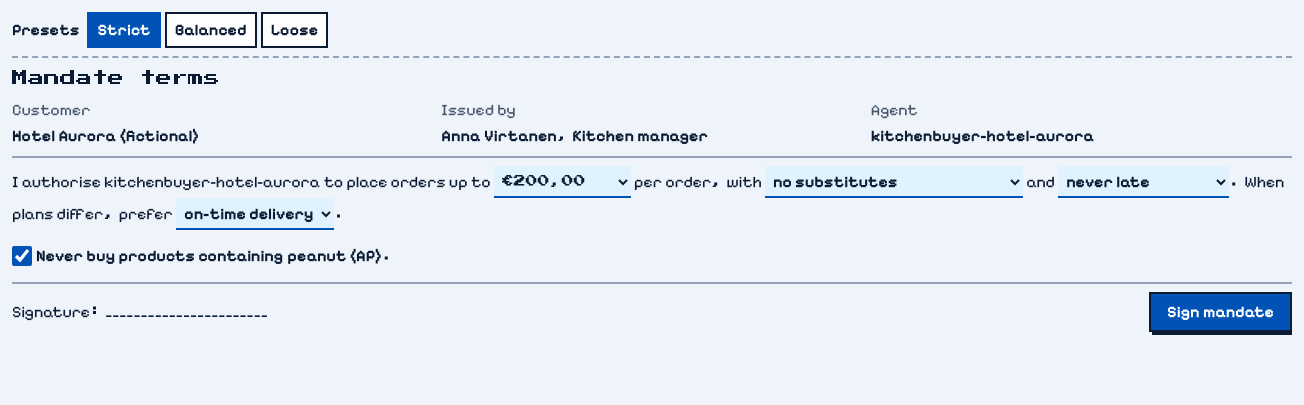
Test: mandate screen › treats a priority-only replay mismatch as custom and reports the sign error
Click the button "Balanced". click: click(211, 30)
box: [165, 12, 257, 48]
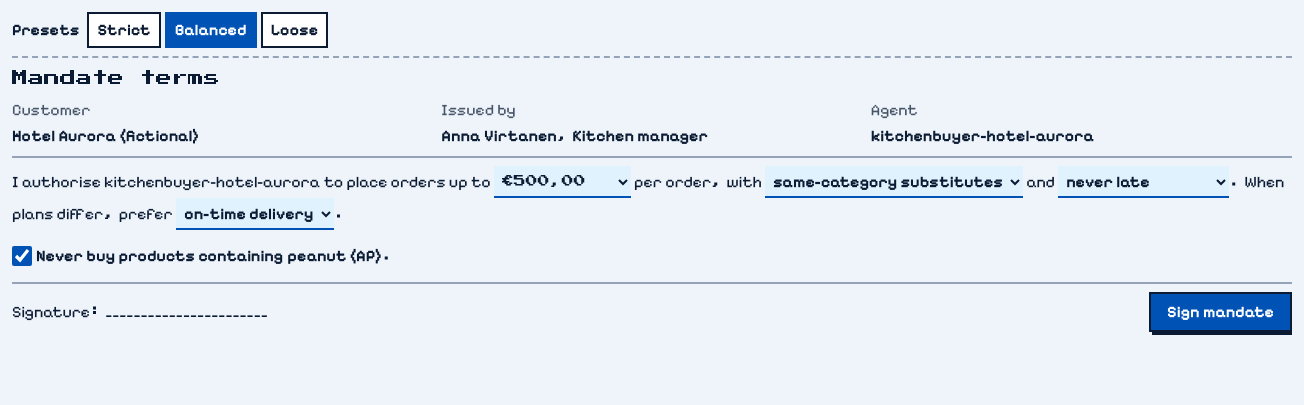
Select "lowest price" in the dropdown named "priority". click: (255, 214)
box: [176, 198, 334, 230]
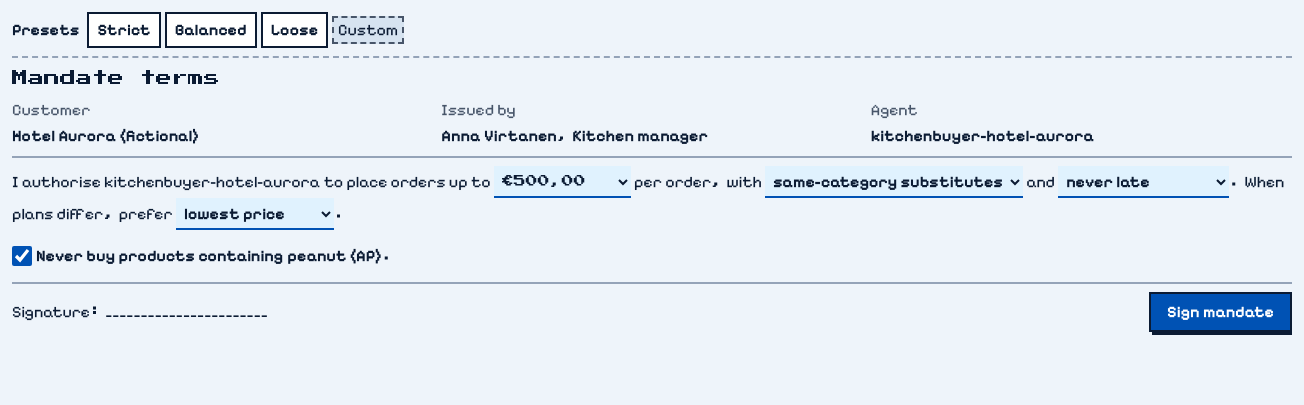
Check: the text "Custom" is shown, box [332, 16, 404, 44]
Click the button "Sign mandate". click: click(1221, 312)
box: [1149, 292, 1292, 332]
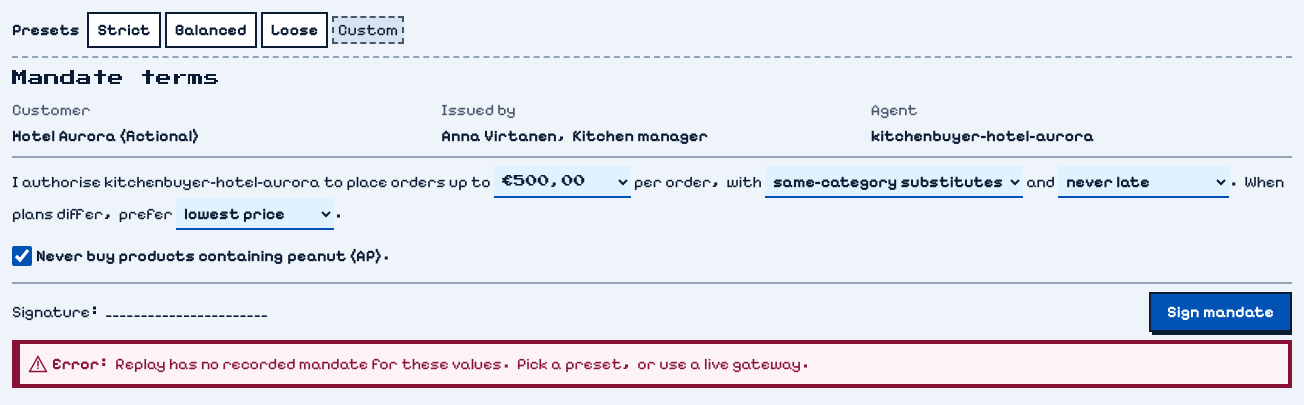
Check: the message shows "Replay has no recorded mandate", box [115, 354, 813, 373]
